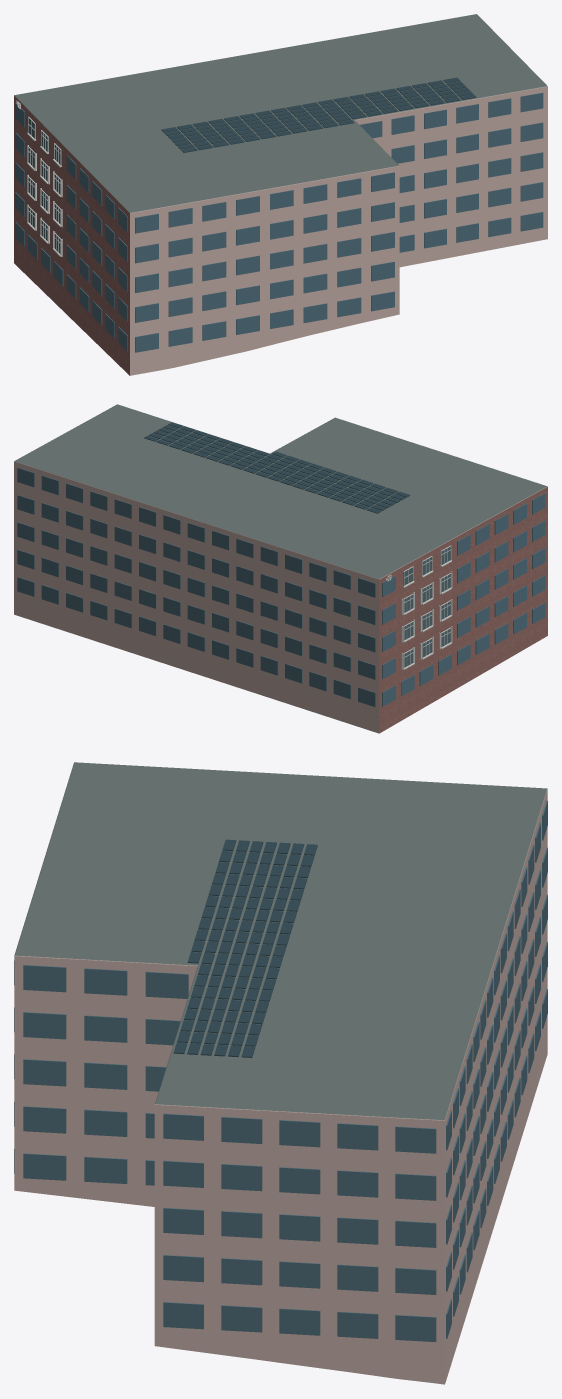
File: fragments.glb
3 views of the same model, one above another, from view 1: azimuth 30°, elevation 25°; view 2: azimuth 150°, elevation 25°; view 3: azimuth 270°, elevation 25° (orthographic). The views are drawn at different scales.
Visible parts, largest first — view 1: SM_468931867_Fragment_002, SM_468931867_Fragment_027, SM_468931867_Fragment_043, SM_468931867_Fragment_001, SM_468931867_Fragment_005, SM_468931867_Fragment_041, SM_468931867_Fragment_045, SM_468931867_Fragment_030, SM_468931867_Fragment_019, SM_468931867_Fragment_036, SM_468931867_Fragment_003, SM_468931867_Fragment_008 (+27 smaller); view 2: SM_468931867_Fragment_061, SM_468931867_Fragment_003, SM_468931867_Fragment_006, SM_468931867_Fragment_034, SM_468931867_Fragment_019, SM_468931867_Fragment_056, SM_468931867_Fragment_049, SM_468931867_Fragment_040, SM_468931867_Fragment_055, SM_468931867_Fragment_009, SM_468931867_Fragment_050, SM_468931867_Fragment_011 (+31 smaller); view 3: SM_468931867_Fragment_029, SM_468931867_Fragment_010, SM_468931867_Fragment_001, SM_468931867_Fragment_025, SM_468931867_Fragment_037, SM_468931867_Fragment_005, SM_468931867_Fragment_047, SM_468931867_Fragment_039, SM_468931867_Fragment_008, SM_468931867_Fragment_040, SM_468931867_Fragment_062, SM_468931867_Fragment_032 (+28 smaller).
Boxes of the visible parts, x1,y1,x2,y2 form: SM_468931867_Fragment_002: (118, 197, 226, 317); SM_468931867_Fragment_027: (417, 108, 547, 212); SM_468931867_Fragment_043: (195, 152, 327, 239); SM_468931867_Fragment_001: (441, 61, 547, 147); SM_468931867_Fragment_005: (326, 221, 399, 325); SM_468931867_Fragment_041: (182, 225, 283, 321); SM_468931867_Fragment_045: (95, 292, 192, 375); SM_468931867_Fragment_030: (252, 265, 351, 348); SM_468931867_Fragment_019: (51, 130, 133, 240); SM_468931867_Fragment_036: (331, 91, 446, 165); SM_468931867_Fragment_003: (14, 89, 99, 192); SM_468931867_Fragment_008: (259, 127, 369, 205); SM_468931867_Fragment_061: (163, 574, 278, 684); SM_468931867_Fragment_003: (349, 537, 434, 642); SM_468931867_Fragment_006: (124, 491, 217, 596); SM_468931867_Fragment_034: (293, 614, 399, 691); SM_468931867_Fragment_019: (403, 509, 497, 610); SM_468931867_Fragment_056: (260, 538, 357, 617); SM_468931867_Fragment_049: (475, 485, 547, 600); SM_468931867_Fragment_040: (203, 497, 293, 581); SM_468931867_Fragment_055: (64, 499, 138, 600); SM_468931867_Fragment_009: (41, 463, 133, 534); SM_468931867_Fragment_050: (326, 651, 426, 733); SM_468931867_Fragment_011: (235, 560, 304, 672); SM_468931867_Fragment_029: (14, 934, 161, 1126); SM_468931867_Fragment_010: (258, 1245, 453, 1384); SM_468931867_Fragment_001: (154, 1031, 301, 1210); SM_468931867_Fragment_025: (255, 1052, 413, 1215); SM_468931867_Fragment_037: (311, 1145, 459, 1323); SM_468931867_Fragment_005: (14, 1044, 128, 1198); SM_468931867_Fragment_047: (72, 783, 284, 865); SM_468931867_Fragment_039: (154, 1221, 262, 1360); SM_468931867_Fragment_008: (21, 882, 198, 960); SM_468931867_Fragment_040: (359, 887, 515, 1027); SM_468931867_Fragment_062: (322, 815, 489, 891); SM_468931867_Fragment_032: (163, 1195, 320, 1289).
Size of the model in its own units: 2.2 by 0.7638 by 1.39.
Materials: 10 (1 with a texture image).
